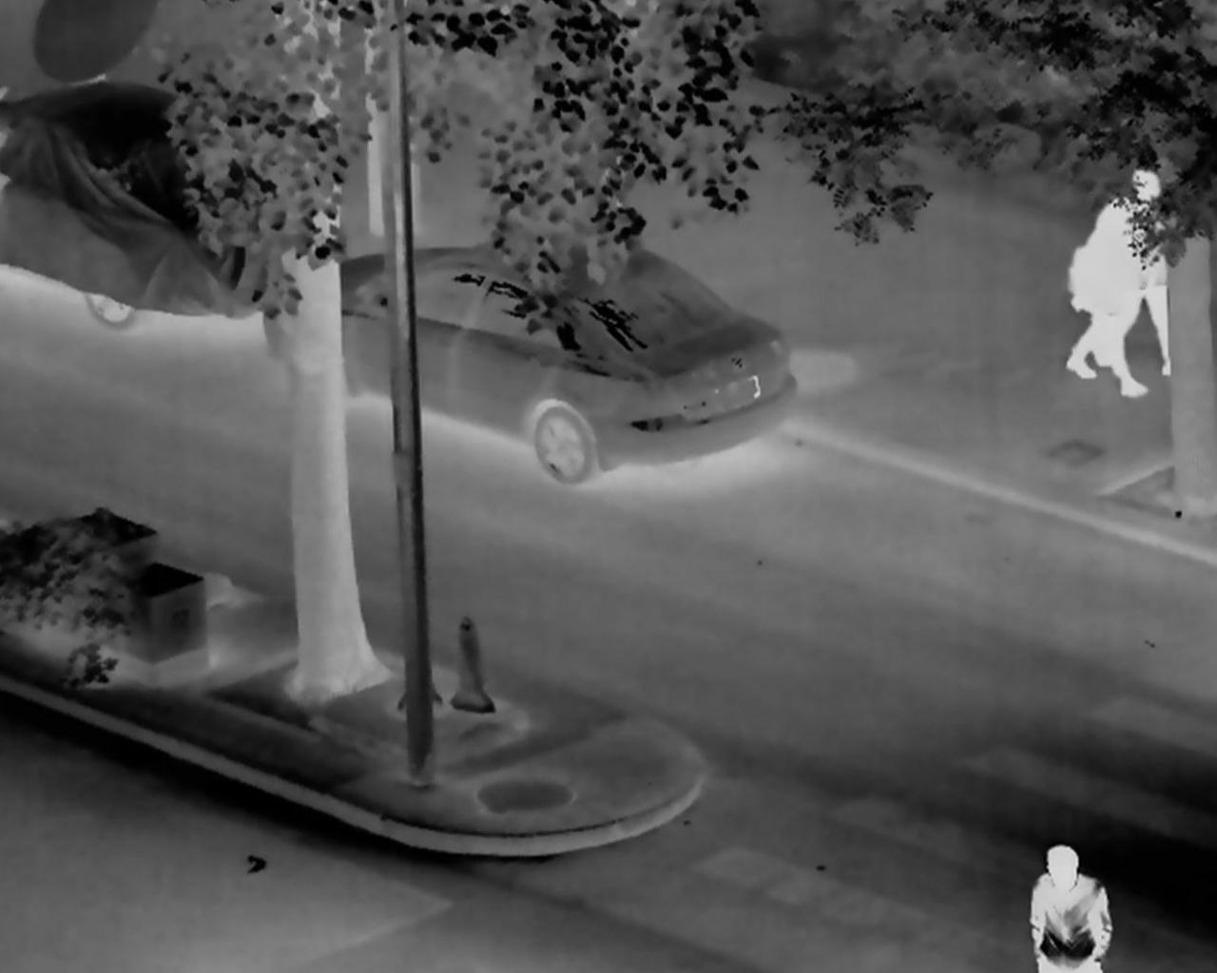person: (1063, 201, 1149, 398), (1109, 170, 1179, 376), (1028, 844, 1111, 973)
